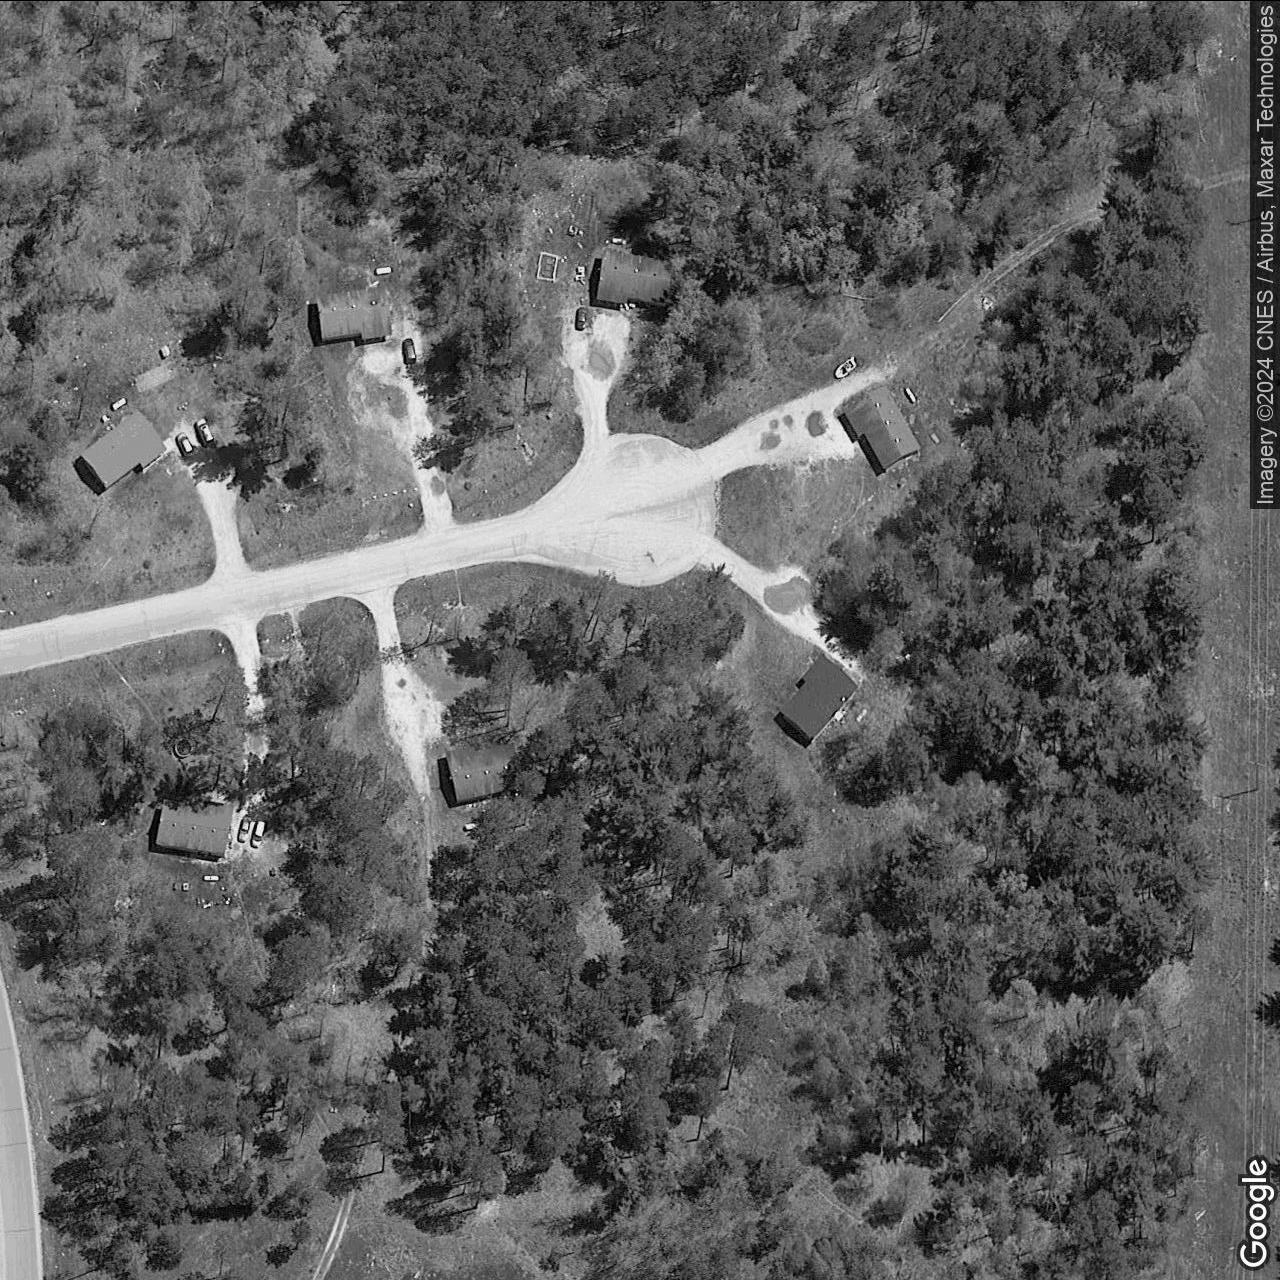House: (778, 651, 860, 743), (77, 408, 168, 489), (844, 382, 922, 470), (152, 794, 234, 859), (443, 740, 523, 804), (595, 247, 678, 305), (315, 286, 393, 341)
Propane: (108, 394, 130, 414), (901, 383, 920, 406), (853, 704, 870, 723), (373, 264, 395, 277), (200, 872, 222, 883), (462, 821, 479, 832), (608, 236, 627, 244)
